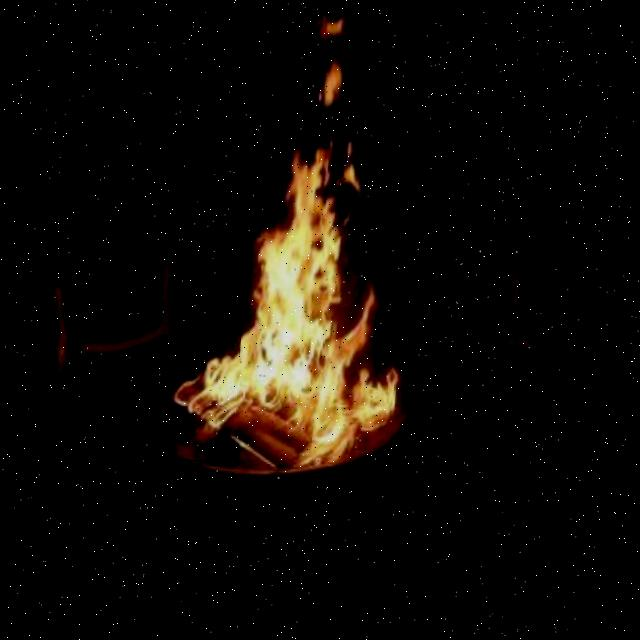fire: (178, 0, 445, 494)
